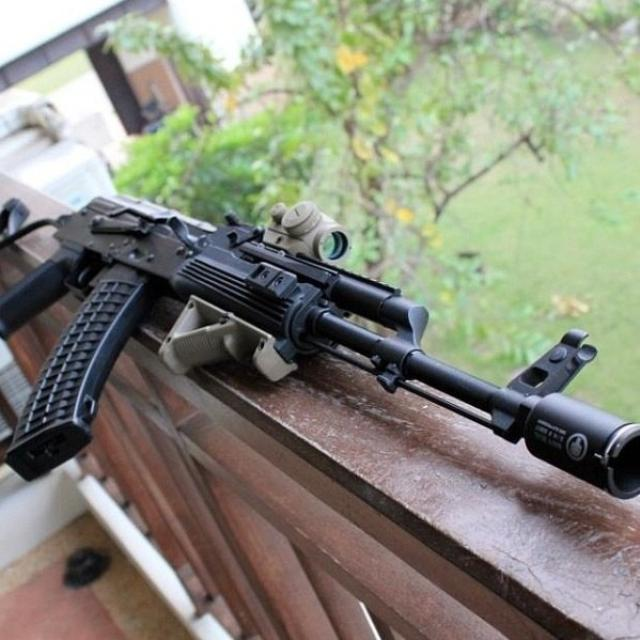firearm: (0, 194, 640, 501)
